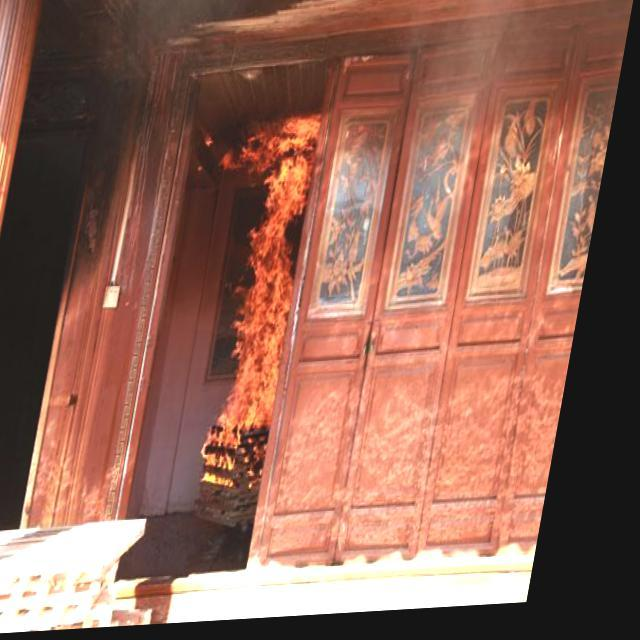Fire: (194, 124, 336, 498)
